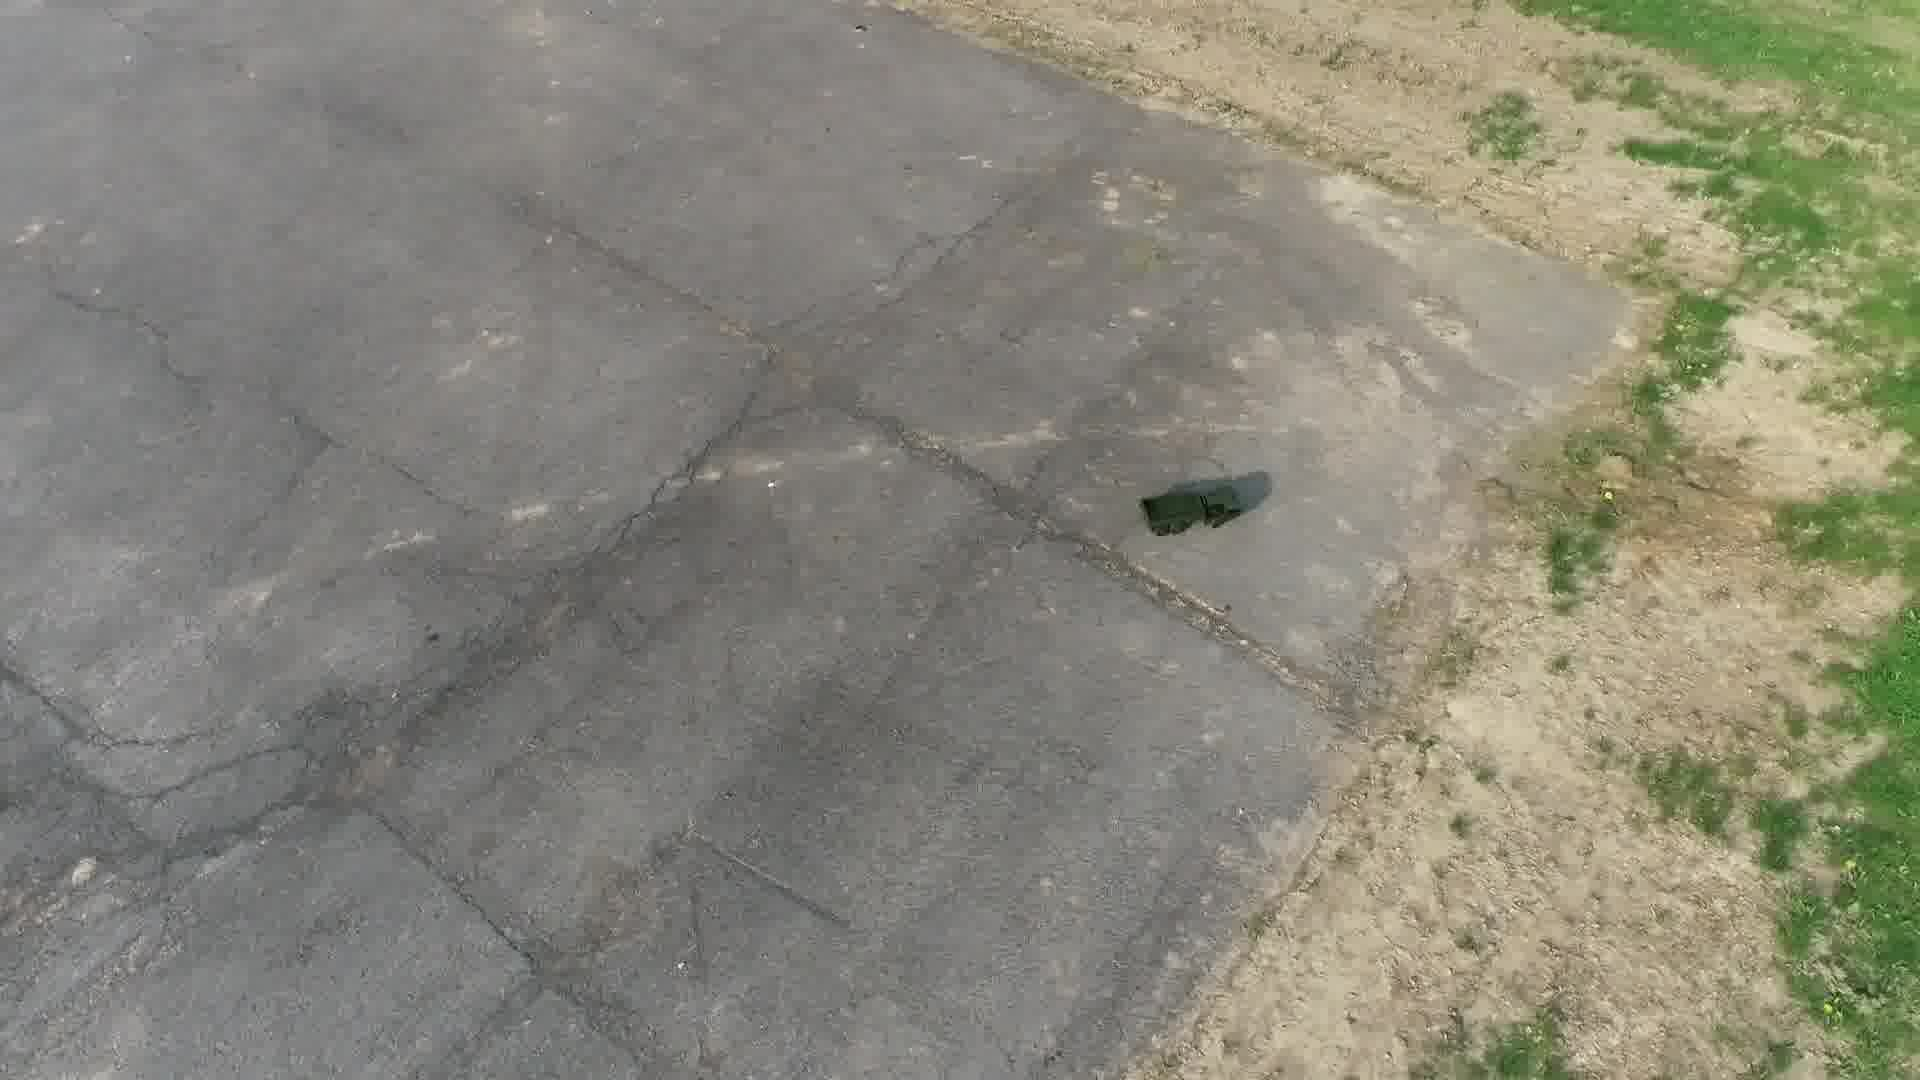transporter9: (1133, 481, 1245, 535)
